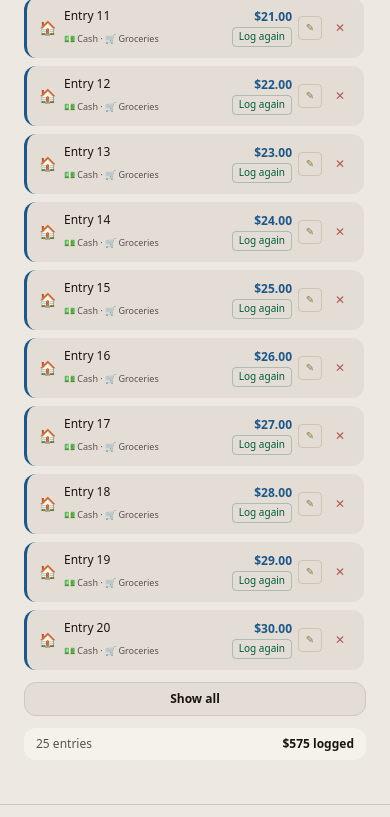
Test: Show all shows every entry, and goes away
This screenshot has width=390, height=817.
(page scrolled)
Click the button "Show all" at point(195, 698), box [24,682,366,716]
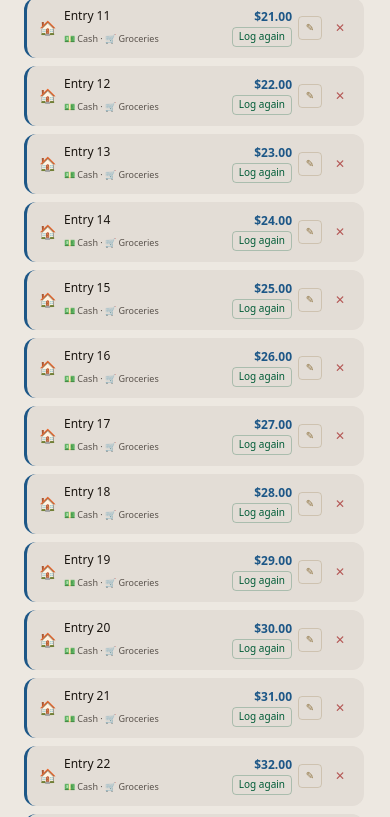
Check: the button "Show all" is gone
